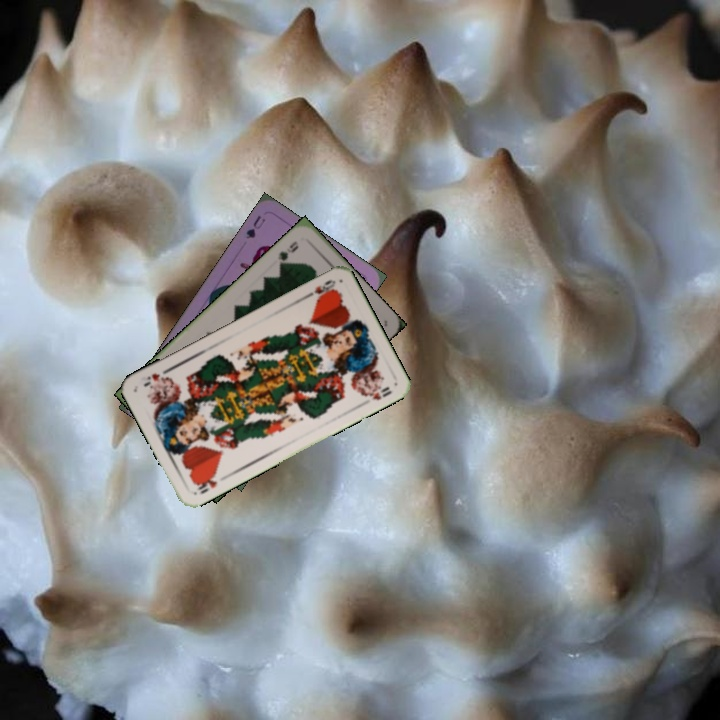G9: (274, 237, 301, 270)
GU: (242, 211, 268, 241)
HO: (301, 275, 339, 301), (192, 469, 220, 497)
